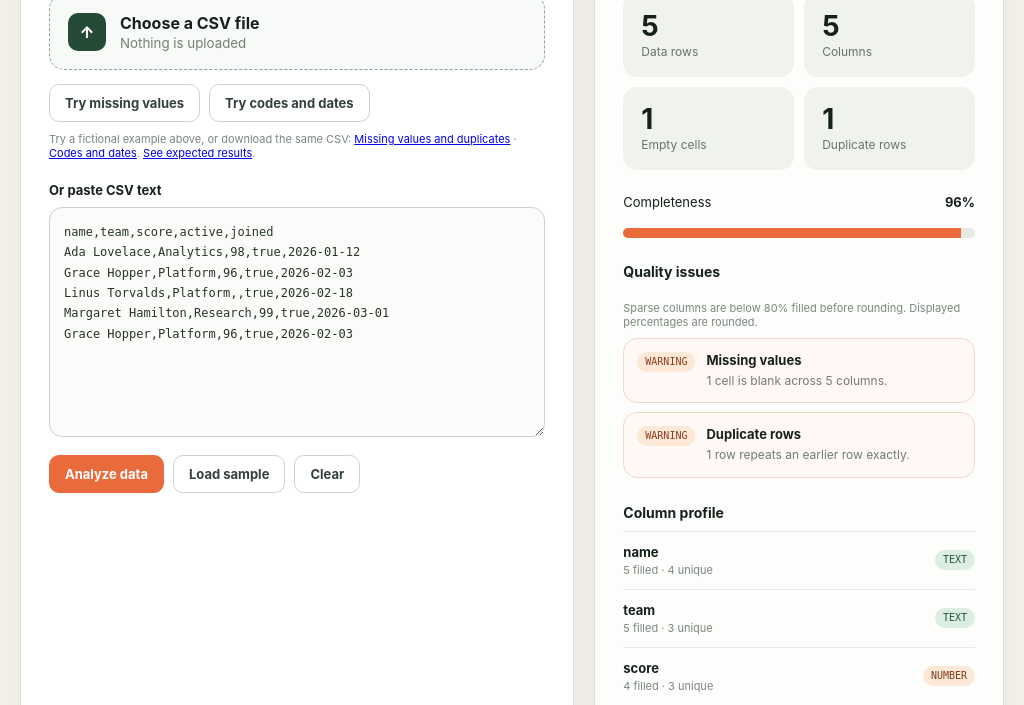
Test: CSV preview pagination › does not offer an empty extra page for 0 data rows
(page scrolled)
Replace the text in the text box with "name" at (297, 322), box x1=49 y1=207 x2=545 y2=437
(page scrolled)
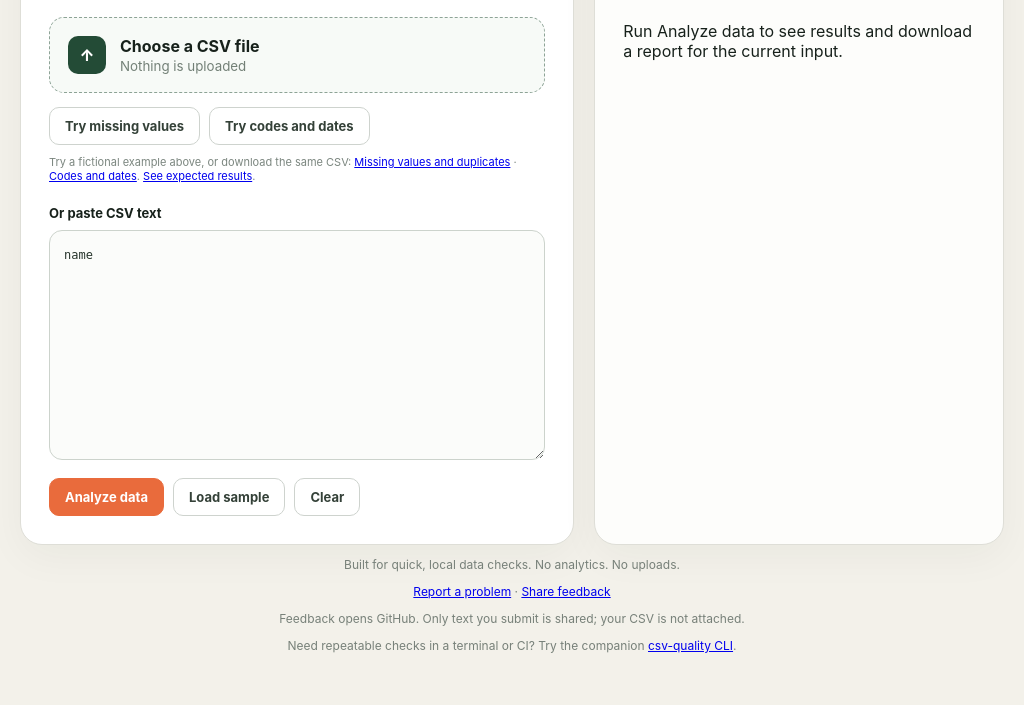
Click the button "Analyze data" at (106, 497), box x1=49 y1=478 x2=164 y2=516
(page scrolled)
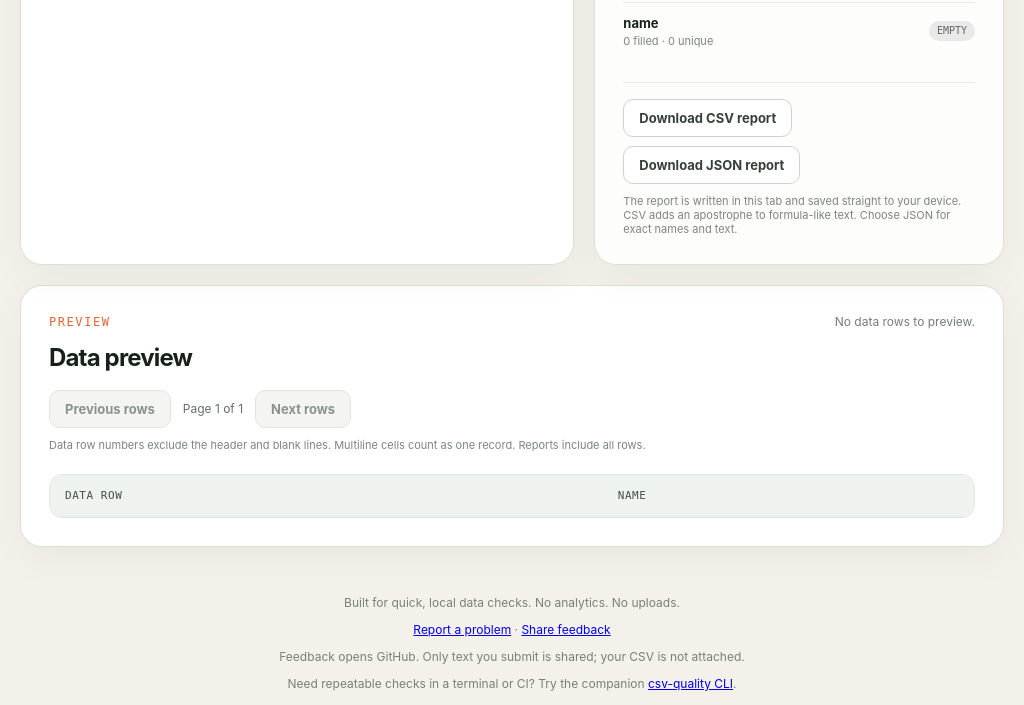
Expected: the button "Next rows" is disabled, x1=255 y1=390 x2=351 y2=428
Expected: the text "No data rows to preview." is shown, x1=835 y1=314 x2=975 y2=329
